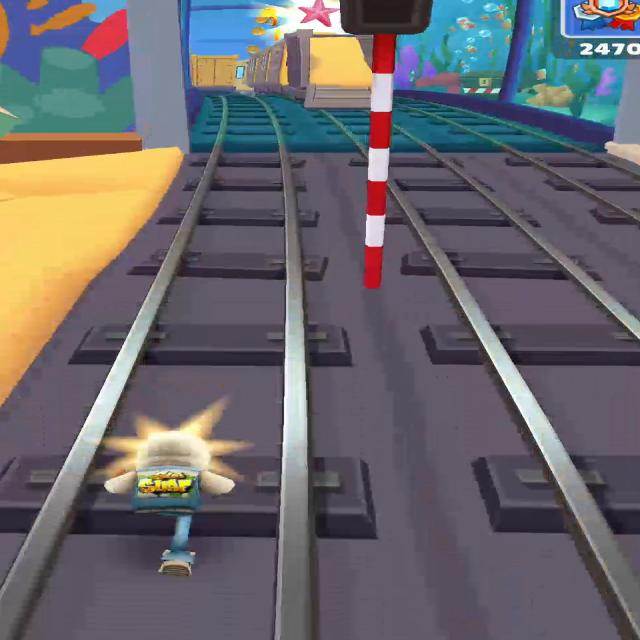climber: (305, 36, 372, 109)
train: (191, 55, 238, 88), (250, 43, 283, 88)
